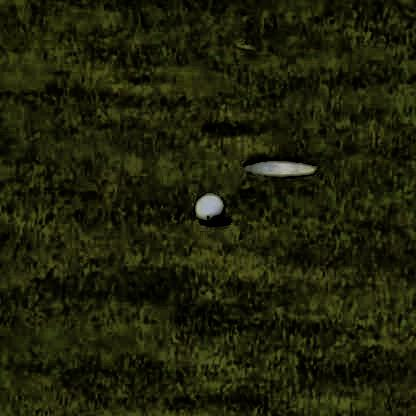golfball: (190, 192, 223, 223)
